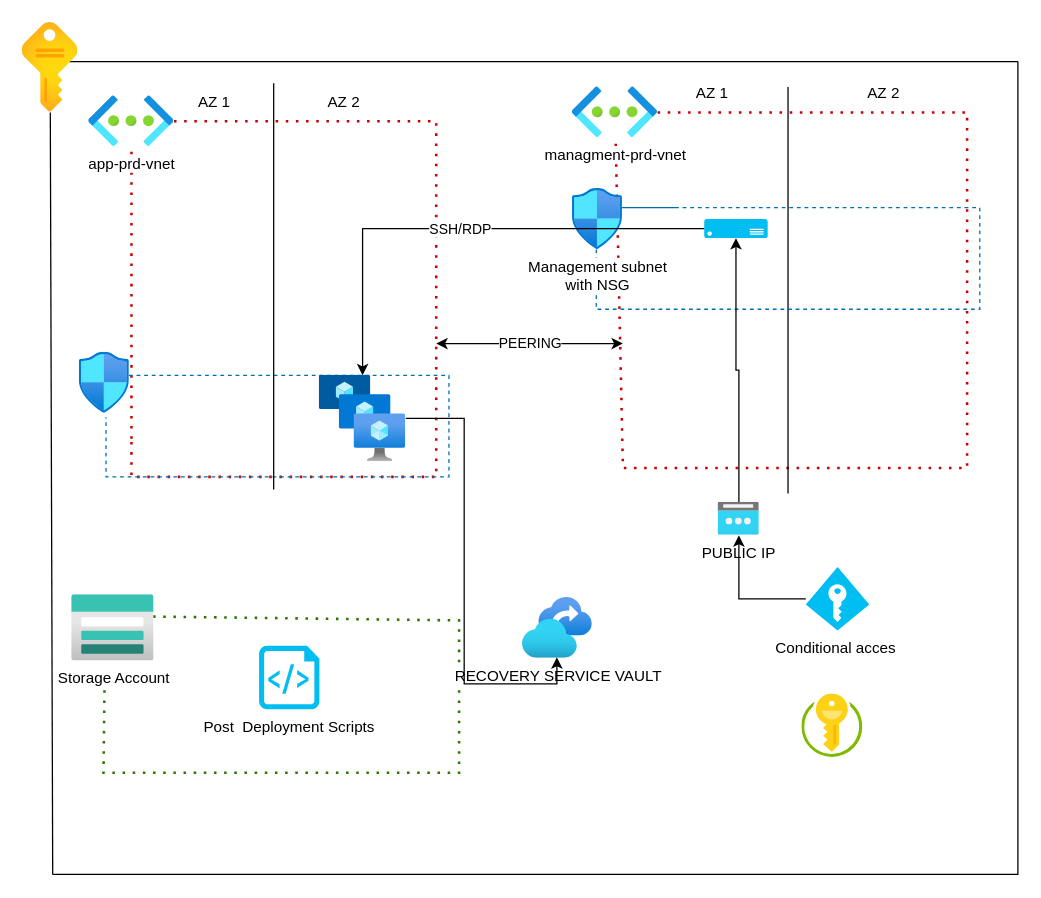
Image size: 1041x898. Some labels were removed from this diagram. Each missing label, with the centre of its shape:
Application subnet with NSG: (x=104, y=382)
KEY VAULT: (x=831, y=725)
Management Server: (x=735, y=227)
WEB SERVER: (x=362, y=418)
